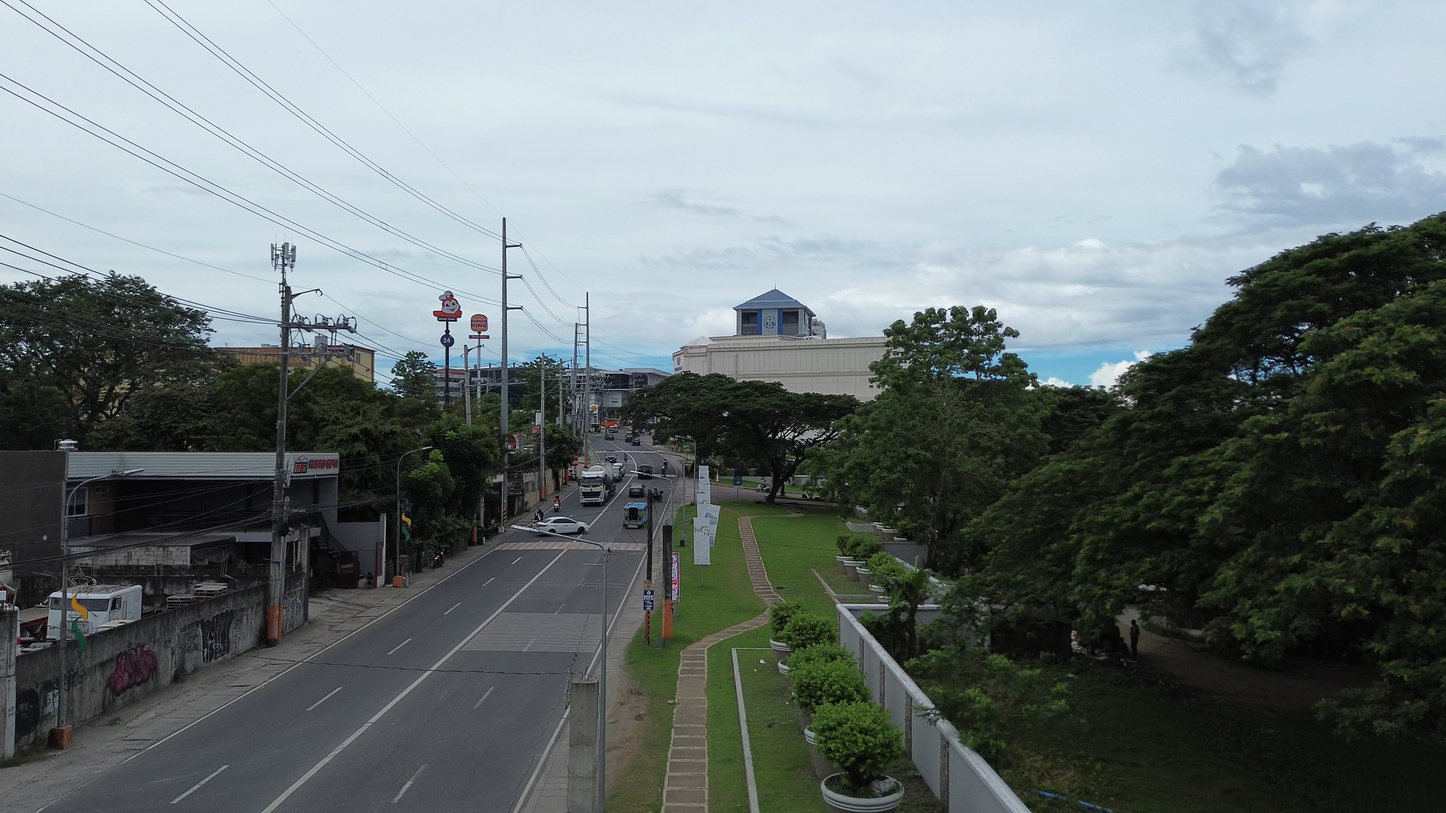car: (534, 516, 588, 534), (604, 454, 618, 464), (604, 432, 615, 440)
vehicle: (66, 585, 142, 634), (579, 466, 613, 505), (623, 502, 648, 528), (637, 464, 653, 479), (628, 483, 645, 497), (612, 463, 624, 479), (755, 483, 770, 492), (604, 454, 618, 463), (604, 432, 615, 440), (631, 437, 640, 446)
